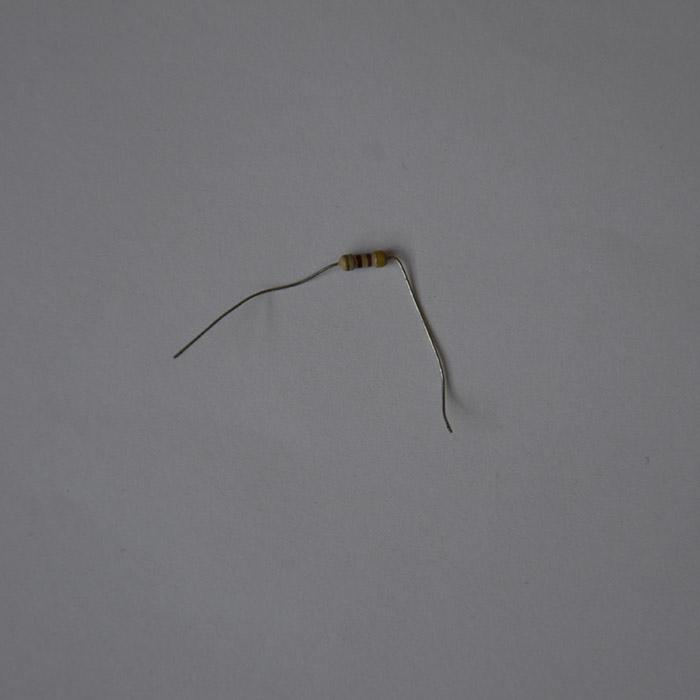resistor: (338, 250, 385, 270)
